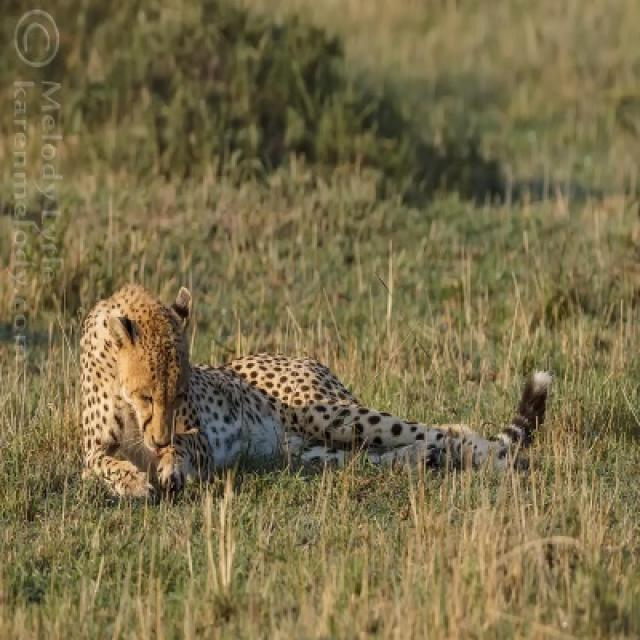Cheetah: (82, 285, 550, 499)
